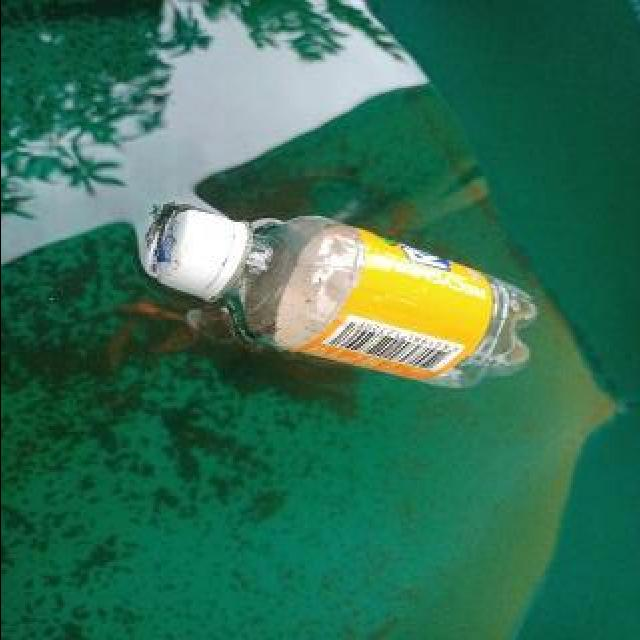Bottle: (142, 200, 542, 402)
